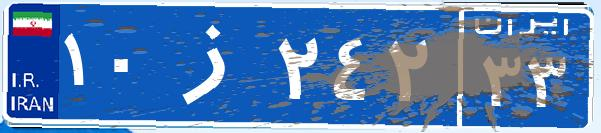0: (110, 28, 158, 105)
1: (57, 26, 110, 107)
2: (385, 28, 445, 110), (273, 28, 330, 110)
3: (475, 38, 525, 113), (525, 38, 570, 115)
4: (330, 28, 385, 110)
ز: (158, 15, 273, 115)
